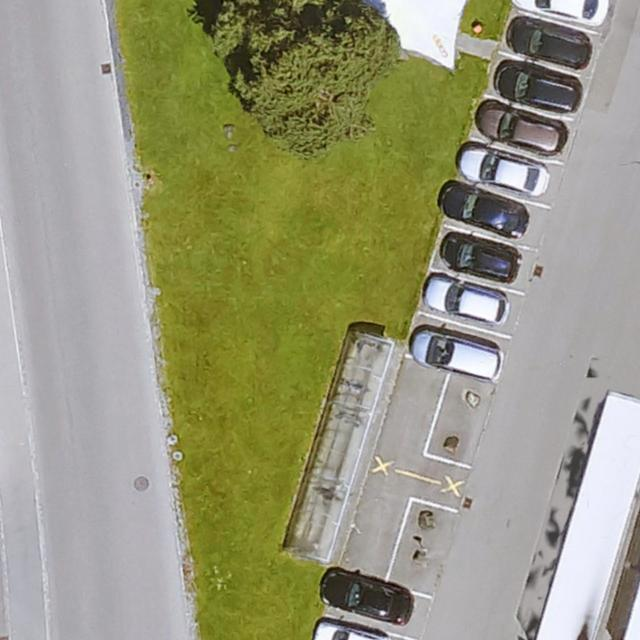tree: (234, 0, 392, 151)
